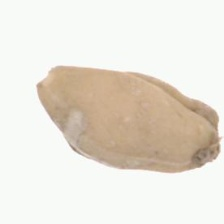L1: (195, 123, 222, 170), (33, 64, 59, 93)
L2: (33, 65, 221, 174)
